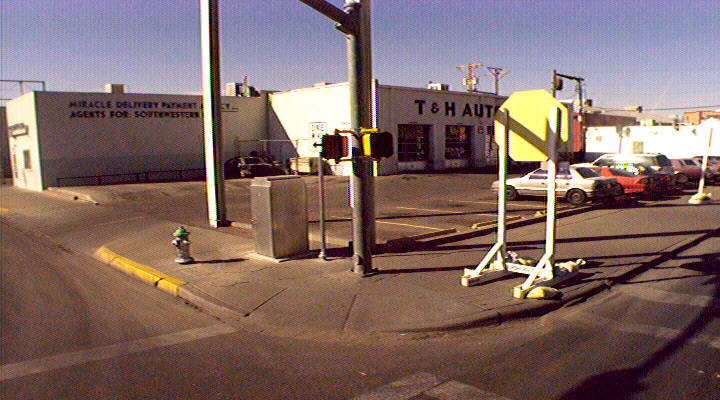Ramp: (166, 258, 519, 346)
